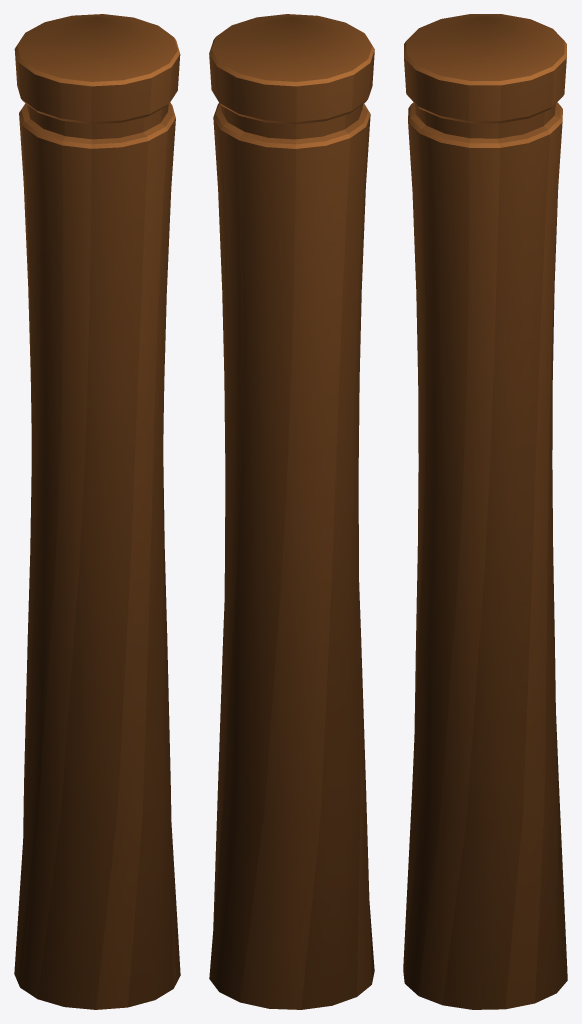
File: Poste-7.fbx
3 renders of one model, left to right at view 1: azimuth 30°, elevation 25°; view 2: azimuth 150°, elevation 25°; view 3: azimuth 270°, elevation 25°, orthographic.
Parts seen in each view (by area): view 1: Poste-7; view 2: Poste-7; view 3: Poste-7.
Boxes of the visible parts, x1=… form: Poste-7: x1=14, y1=14, x2=180, y2=1009; Poste-7: x1=209, y1=14, x2=374, y2=1009; Poste-7: x1=403, y1=14, x2=567, y2=1009.
Size of the model in its own units: 72.95 by 469 by 72.95.
